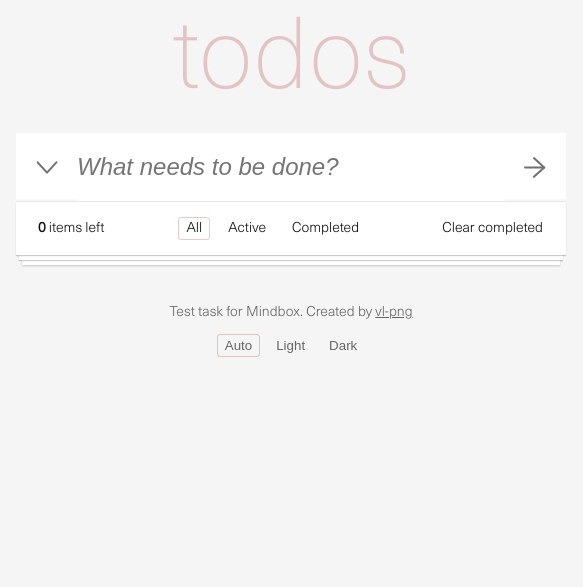
Test: Todos E2E › adds tasks
Step 1. Type "Hello world" into the field with placeholder "What needs to be done?" → (291, 167), box 77,133 -> 505,201
Then press Enter
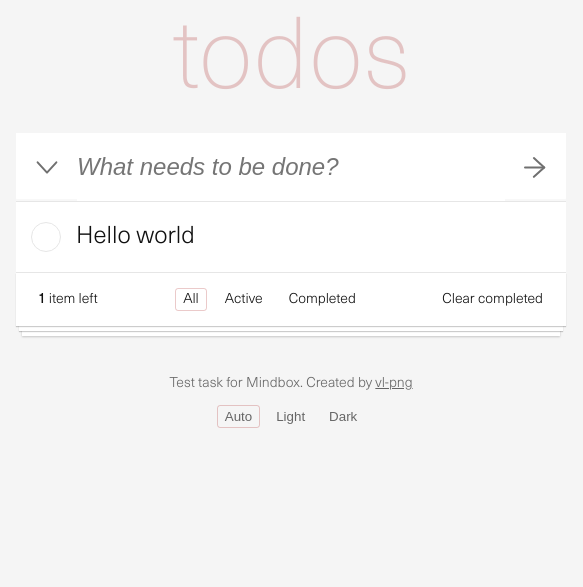
Step 2. Type "Bye world" into the field with placeholder "What needs to be done?" → (291, 167), box 77,133 -> 505,201
Then press Enter
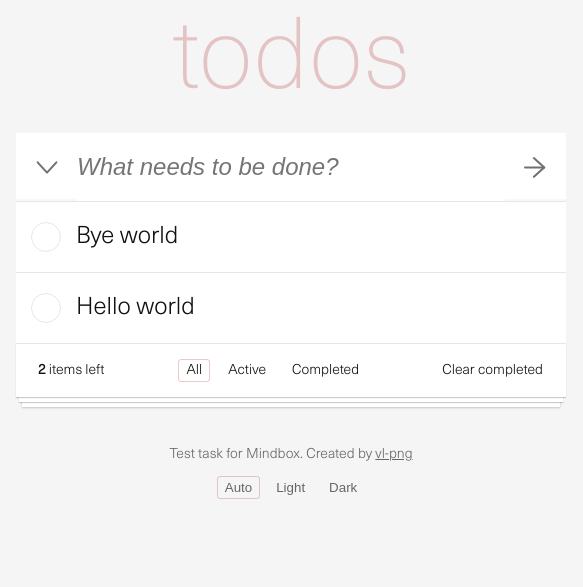
Step 3. Type "Hi world" into the field with placeholder "What needs to be done?" → (291, 167), box 77,133 -> 505,201
Then press Enter
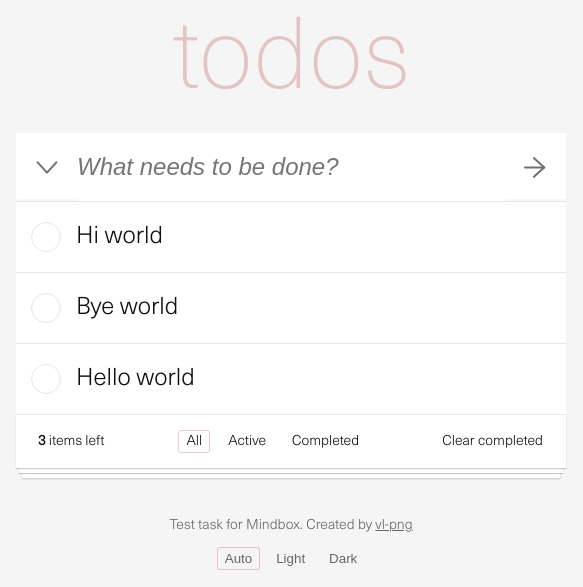
Now the list item "Hello world" is shown, box 16,344 -> 566,415
Now the list item "Bye world" is shown, box 16,273 -> 566,344
Now the list item "Hi world" is shown, box 16,202 -> 566,273
